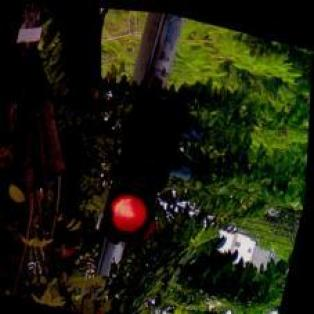Semoforo Rojo: (98, 82, 187, 248)
